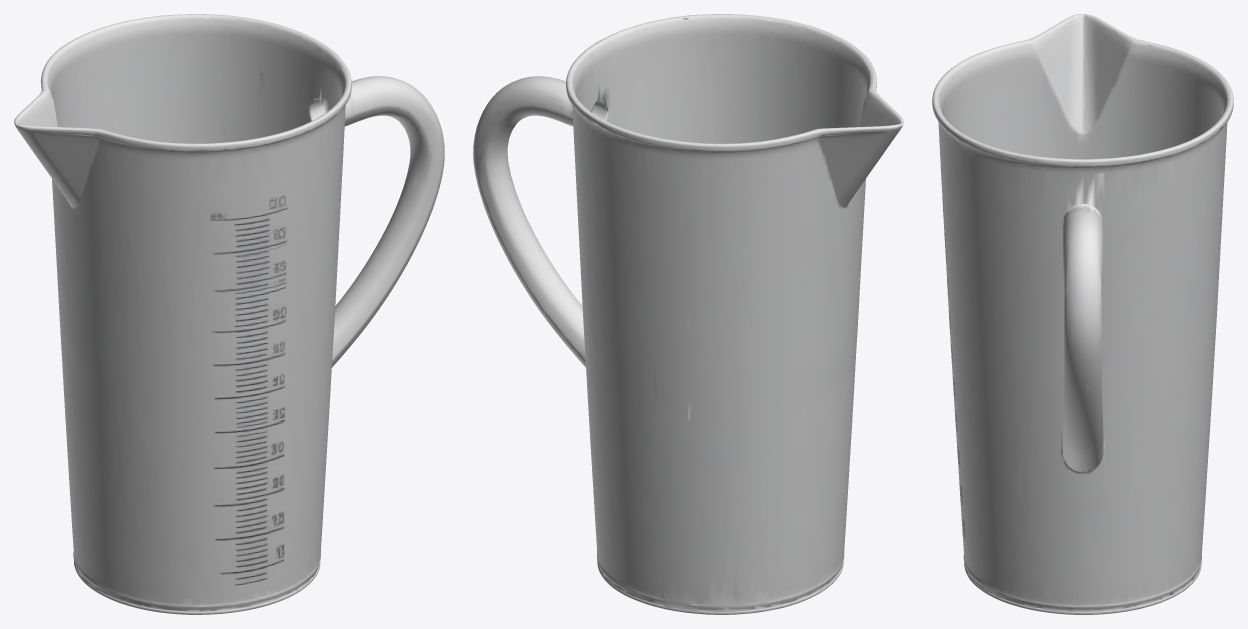
Rendered from Cup.fbx.
3 renders of one model, left to right at view 1: azimuth 30°, elevation 25°; view 2: azimuth 150°, elevation 25°; view 3: azimuth 270°, elevation 25°, orthographic. The views are drawn at different scales.
Visible parts, largest first — view 1: node_0; view 2: node_0; view 3: node_0.
Boxes of the visible parts, x1=… form: node_0: x1=14, y1=14, x2=444, y2=614; node_0: x1=473, y1=14, x2=903, y2=614; node_0: x1=932, y1=14, x2=1233, y2=614.
Bounding box in the file's own units: 81.18 × 88.33 × 51.55.
Materials: 1 (1 with a texture image).
